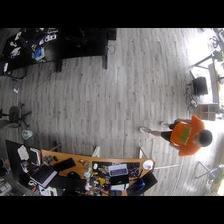normal: (140, 117, 212, 154)
